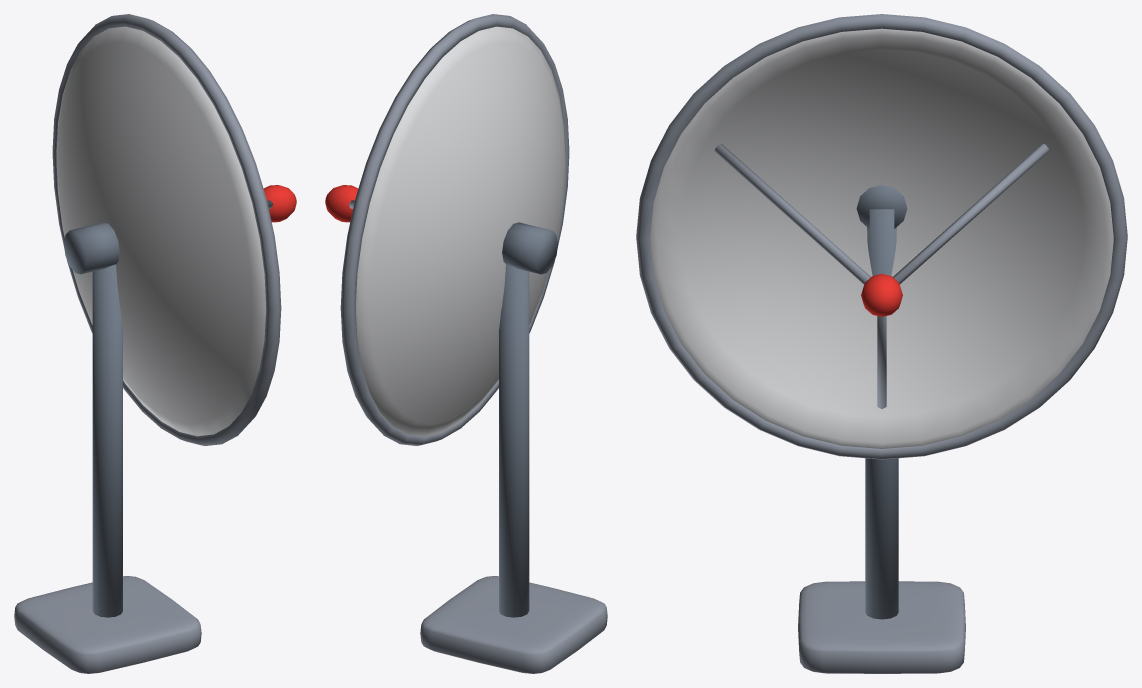
Rendered from satellite_dish.glb.
3 renders of one model, left to right at view 1: azimuth 30°, elevation 25°; view 2: azimuth 150°, elevation 25°; view 3: azimuth 270°, elevation 25°, orthographic. The views are drawn at different scales.
Visible parts, largest first — view 1: DishMesh, Pole; view 2: DishMesh, Pole; view 3: DishMesh, Pole.
Part boxes in pixels (left/top/right/bottom): DishMesh: left=52, top=14, right=296, bottom=445; Pole: left=14, top=264, right=201, bottom=673; DishMesh: left=325, top=14, right=569, bottom=445; Pole: left=420, top=264, right=607, bottom=673; DishMesh: left=636, top=14, right=1127, bottom=459; Pole: left=798, top=209, right=965, bottom=673.
Size of the model in its own units: 1.54 by 3.47 by 2.34.
